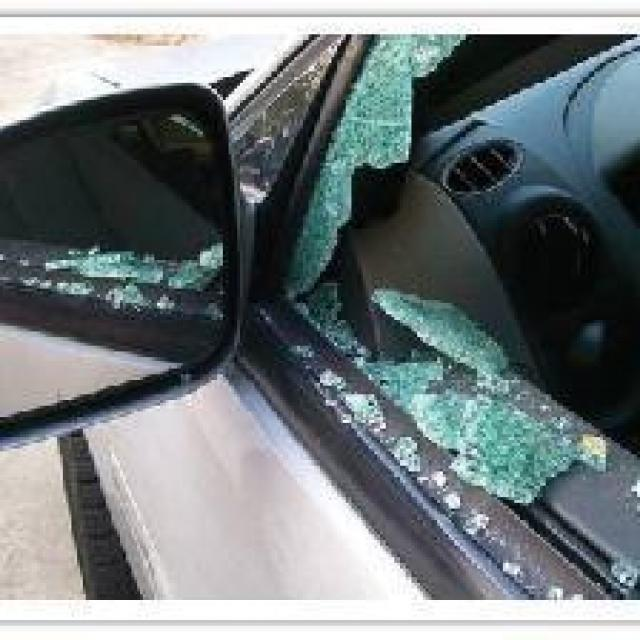damaged: (286, 37, 638, 603)
